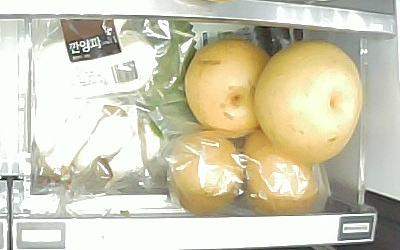pear: (253, 38, 364, 159), (183, 39, 271, 138)
pear_vinyl: (244, 133, 323, 215), (171, 133, 243, 216)
